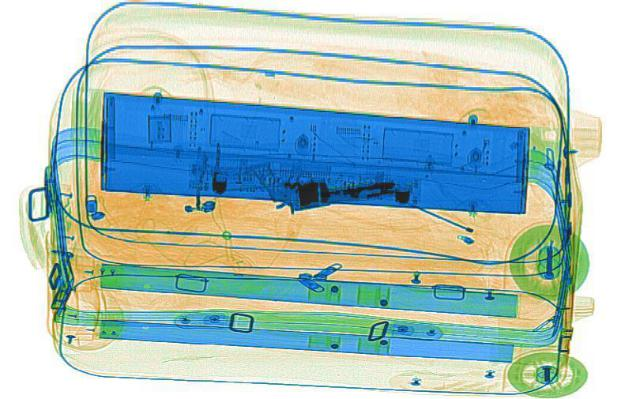Gun: (246, 162, 412, 209)
